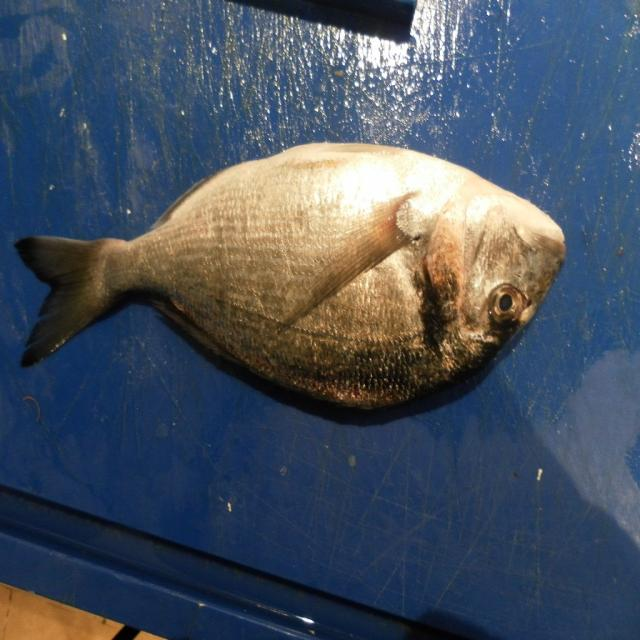Gilt-Head-Bream-c-ipura-: (13, 142, 567, 420)
